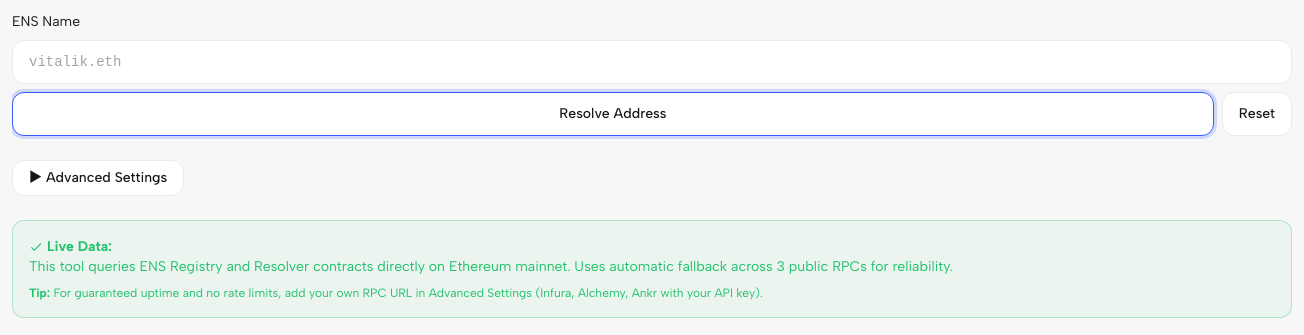
EnsResolverTool › resets the form
The width and height of the screenshot is (1304, 335).
Type "test.eth" into the field with placeholder "vitalik.eth". click: (652, 62)
box: [12,40,1292,84]
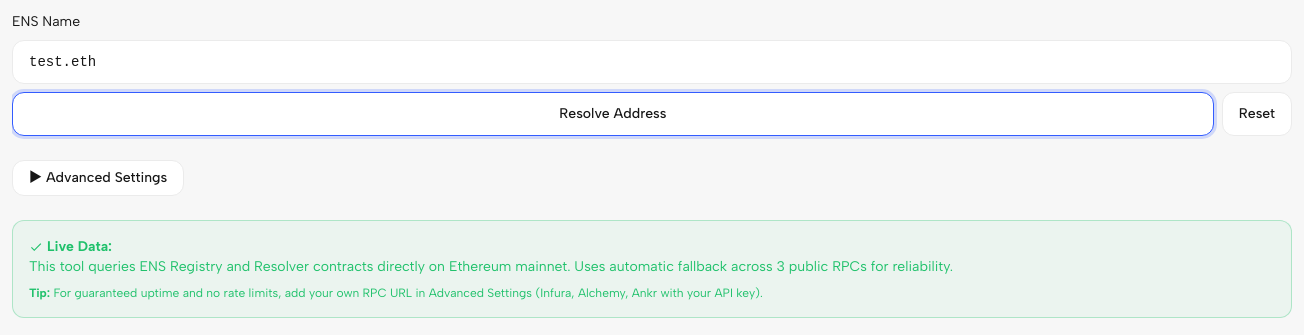
Click the button "Reset". click: (1257, 114)
box: [1222,92,1292,136]
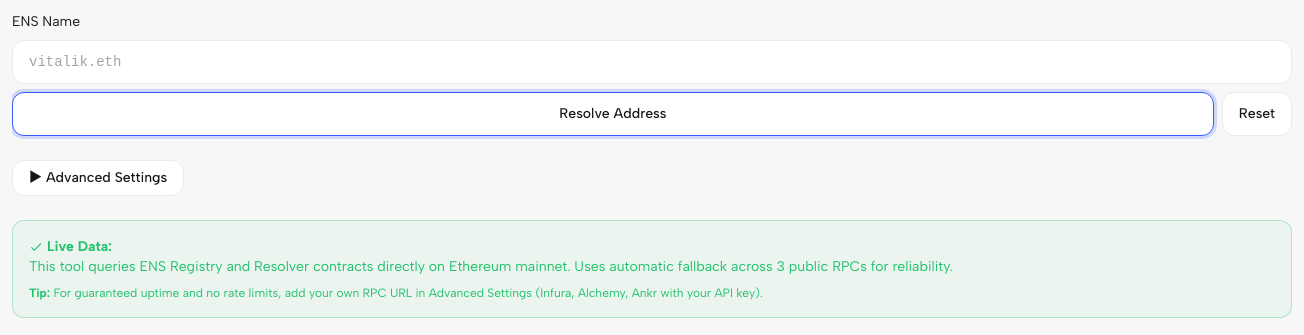
Expected: the field with placeholder "vitalik.eth" is empty, [12,40,1292,84]
